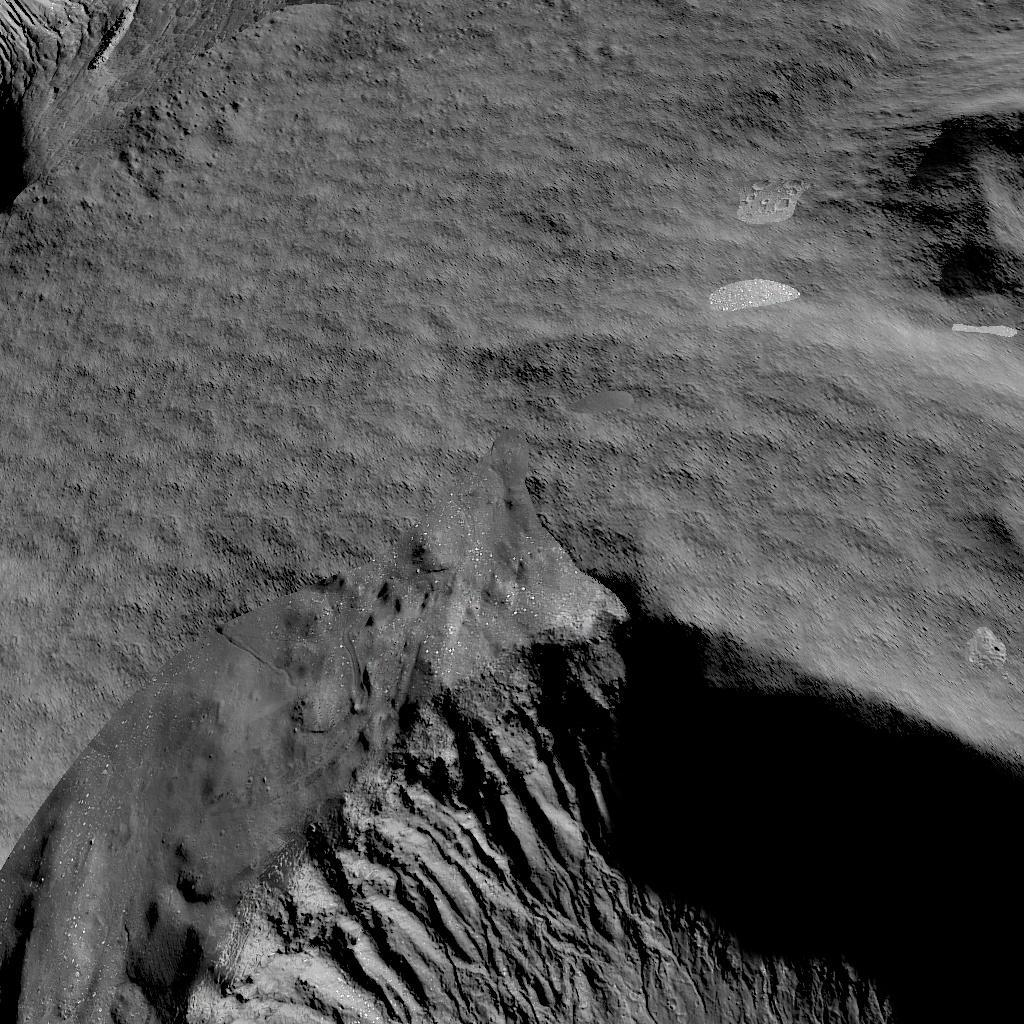Boulders: (0, 0, 316, 219)
Crater: (0, 464, 1024, 1024), (844, 96, 1024, 304)
Plan surface: (2, 248, 798, 428), (338, 0, 808, 213)
